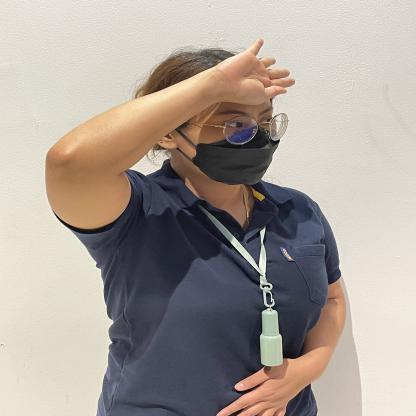Sick: (150, 24, 336, 121)
